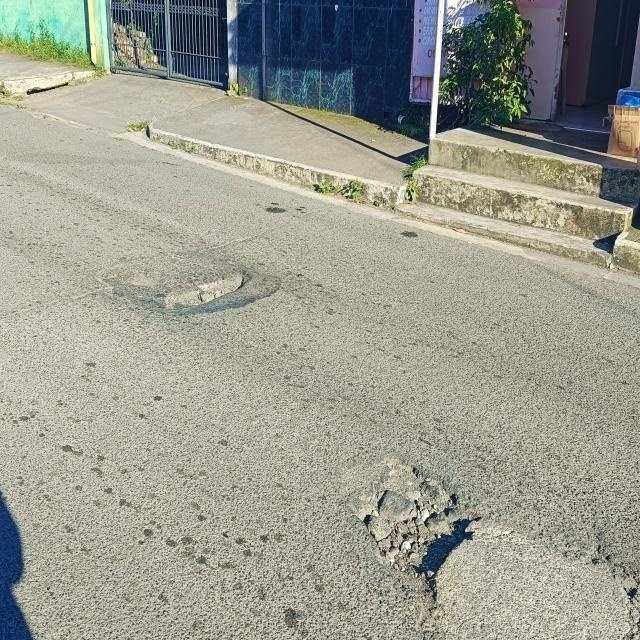pothole: (340, 434, 500, 604), (165, 239, 285, 343)
